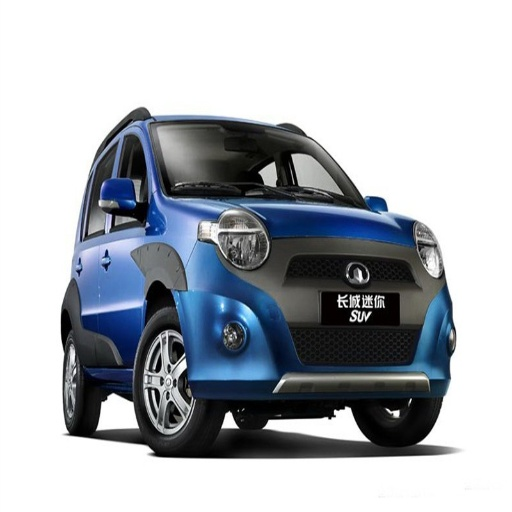front_bumper: (183, 246, 452, 401)
front_right_door: (95, 121, 151, 365), (288, 140, 338, 179)
front_right_light: (199, 217, 265, 271)
trunk: (248, 204, 397, 297)
